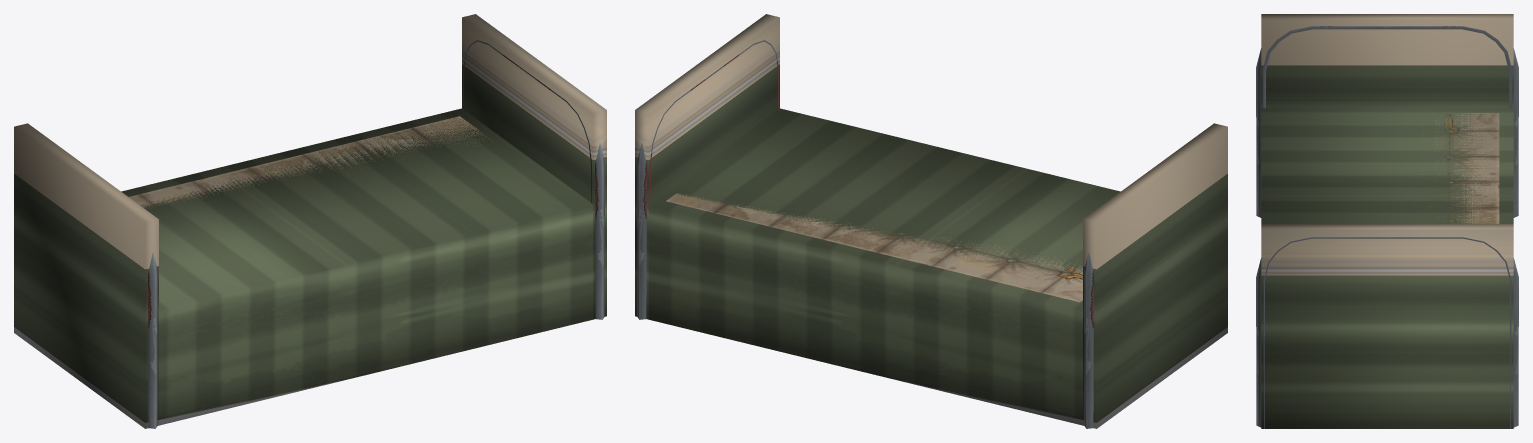
The model's file is bed03_A.fbx.
3 views of the same model, side by side, from view 1: azimuth 30°, elevation 25°; view 2: azimuth 150°, elevation 25°; view 3: azimuth 270°, elevation 25° (orthographic). The views are drawn at different scales.
Parts seen in each view (by area): view 1: bed03_A_COL, bed03_A; view 2: bed03_A_COL, bed03_A; view 3: bed03_A_COL, bed03_A.
Part boxes in pixels (<box>): bed03_A_COL: <box>14,14,606,428</box>; bed03_A: <box>129,40,604,428</box>; bed03_A_COL: <box>635,14,1227,428</box>; bed03_A: <box>637,40,1093,428</box>; bed03_A_COL: <box>1261,14,1513,428</box>; bed03_A: <box>1256,26,1518,428</box>.
Bounding box in the file's own units: 216 × 91.99 × 111.
